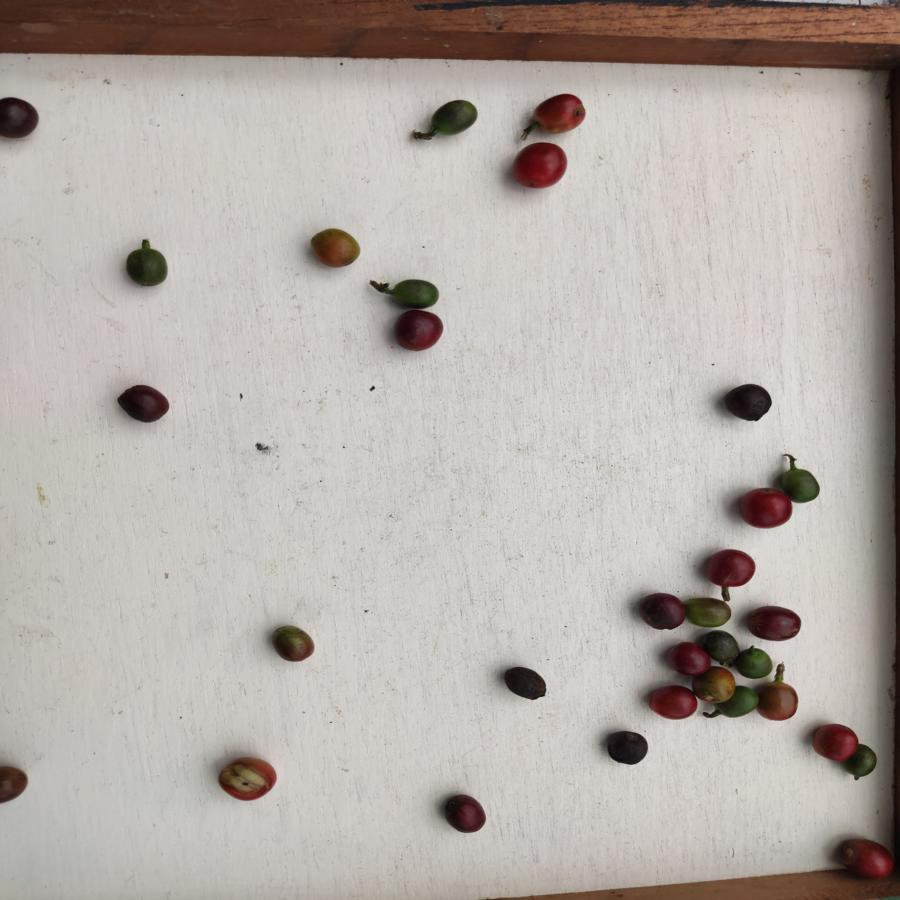Inmaduro: (429, 97, 478, 134), (124, 248, 169, 288), (784, 466, 827, 504), (391, 278, 440, 310), (738, 645, 771, 680), (733, 685, 759, 718), (858, 744, 879, 778)
Maduro: (213, 754, 277, 805), (837, 836, 898, 880), (513, 141, 569, 187), (532, 92, 587, 134), (738, 487, 791, 527), (644, 683, 697, 719), (810, 722, 855, 763)
Pinton: (306, 227, 364, 269), (757, 679, 801, 725), (697, 669, 736, 710)
Sobremaduro: (703, 546, 760, 592), (742, 602, 801, 642), (117, 384, 175, 424), (392, 310, 444, 351), (722, 384, 774, 423), (441, 792, 489, 834), (1, 96, 43, 139), (504, 663, 548, 703), (603, 727, 648, 766), (639, 594, 687, 629), (704, 629, 740, 666), (669, 642, 708, 673), (1, 762, 27, 805)
